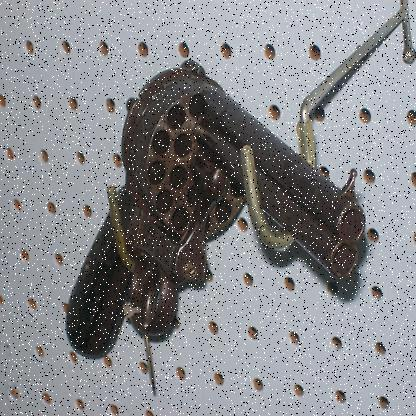pistol: (65, 50, 369, 351)
